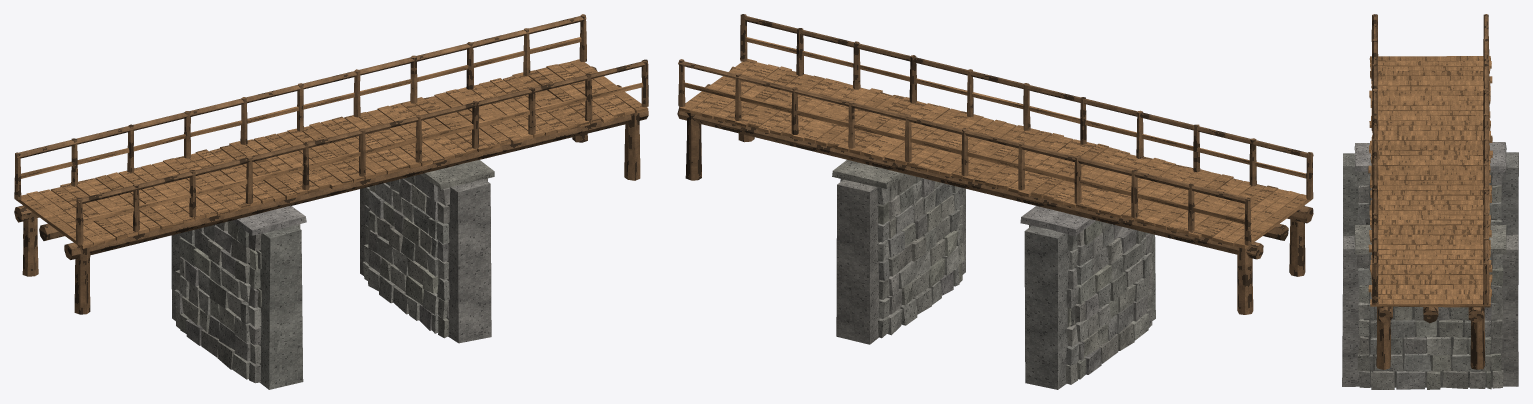
File: ponte_g.glb
3 renders of one model, left to right at view 1: azimuth 30°, elevation 25°; view 2: azimuth 150°, elevation 25°; view 3: azimuth 270°, elevation 25°, orthographic. The views are drawn at different scales.
Visible parts, largest first — view 1: ponte_g_pedra, ponte_g_madeira, ponte_g_tronco; view 2: ponte_g_pedra, ponte_g_madeira, ponte_g_tronco; view 3: ponte_g_madeira, ponte_g_pedra, ponte_g_tronco.
Boxes of the visible parts, x1,y1,x2,y2 form: ponte_g_pedra: [171, 160, 494, 389]; ponte_g_madeira: [16, 37, 647, 248]; ponte_g_tronco: [14, 14, 648, 314]; ponte_g_pedra: [832, 160, 1155, 389]; ponte_g_madeira: [679, 37, 1310, 248]; ponte_g_tronco: [677, 14, 1313, 314]; ponte_g_madeira: [1368, 56, 1492, 307]; ponte_g_pedra: [1342, 142, 1518, 389]; ponte_g_tronco: [1371, 14, 1489, 369].
Size of the model in its own units: 15.32 by 5.62 by 4.51.
Materials: 3 (3 with a texture image).
